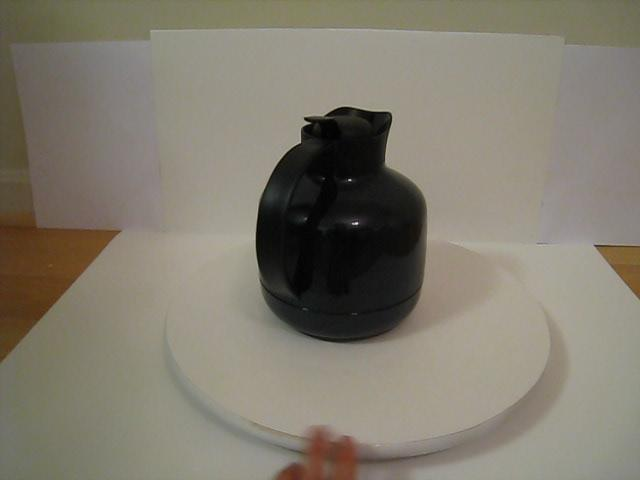pitcher: (250, 91, 437, 354)
